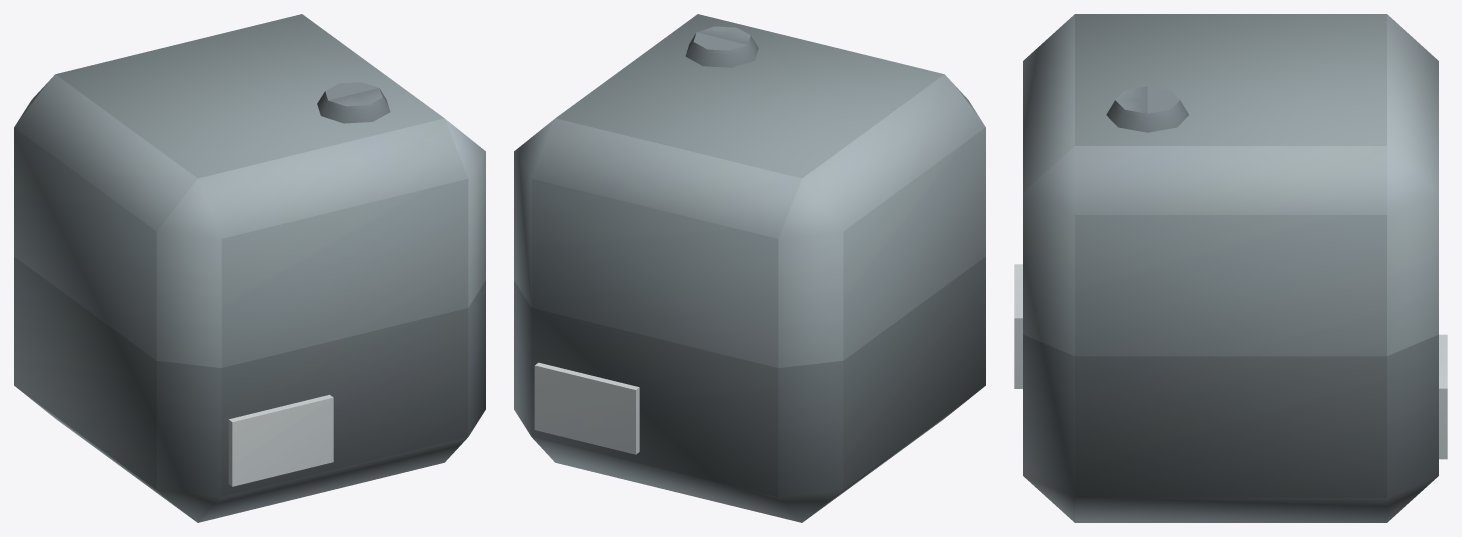
Rendered from cargo_B.glb.
3 views of the same model, side by side, from view 1: azimuth 30°, elevation 25°; view 2: azimuth 150°, elevation 25°; view 3: azimuth 270°, elevation 25° (orthographic). The views are drawn at different scales.
Visible parts, largest first — view 1: cargo_B_Cube.15113; view 2: cargo_B_Cube.15113; view 3: cargo_B_Cube.15113.
Part boxes in pixels (<box>): cargo_B_Cube.15113: <box>14,14,485,522</box>; cargo_B_Cube.15113: <box>514,14,985,522</box>; cargo_B_Cube.15113: <box>1014,14,1447,522</box>.
Bounding box in the file's own units: 0.5 × 0.52 × 0.5205.
1 material, 1 textured.
